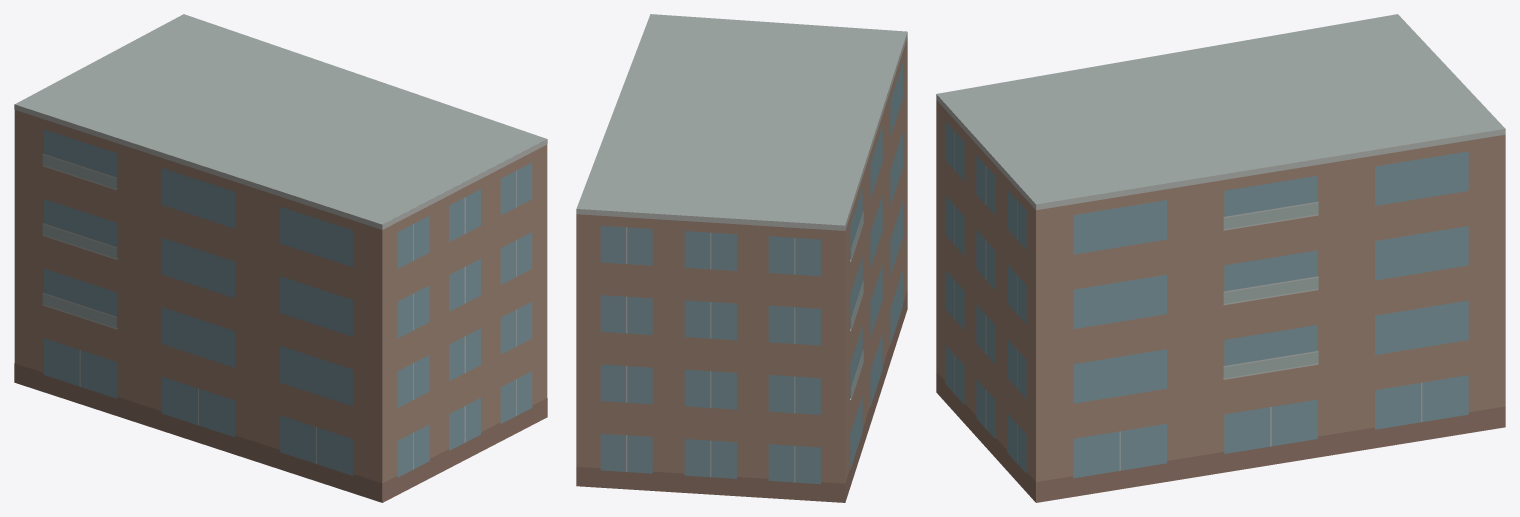
Rendered from survey-upis-32767102.glb.
The picture shows the model from 3 angles, left to right: view 1: azimuth 30°, elevation 25°; view 2: azimuth 150°, elevation 25°; view 3: azimuth 270°, elevation 25°; orthographic projection. The views are drawn at different scales.
Visible parts, largest first — view 1: survey-upis-32767102.tmp; view 2: survey-upis-32767102.tmp; view 3: survey-upis-32767102.tmp.
Part boxes in pixels (bbox=[...]): survey-upis-32767102.tmp: bbox=[14, 14, 547, 502]; survey-upis-32767102.tmp: bbox=[576, 14, 907, 502]; survey-upis-32767102.tmp: bbox=[936, 14, 1505, 502].
Size of the model in its own units: 17.41 by 12.7 by 21.98.
